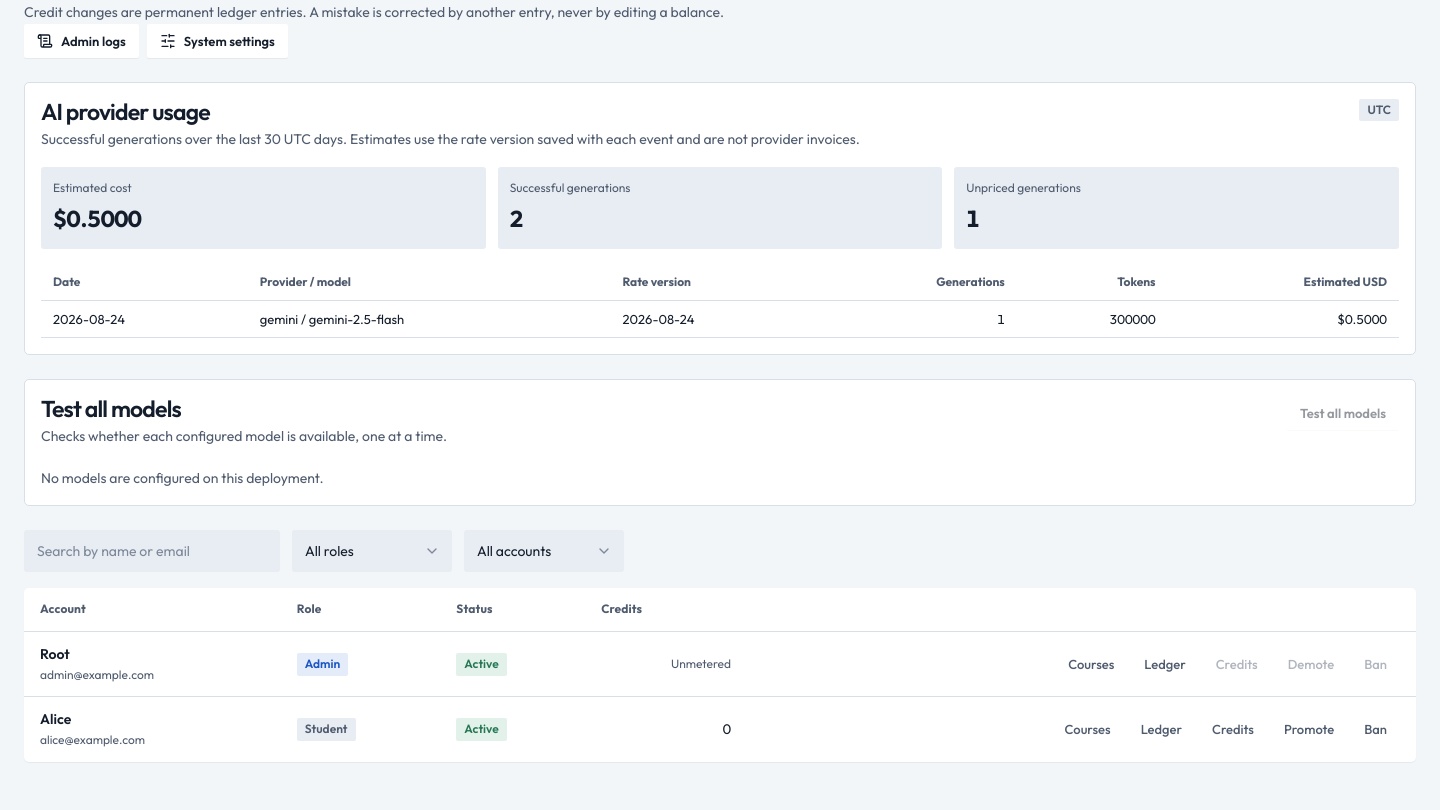
Test: AdminPage credit administration › opens a dialog naming the account and its current balance
(page scrolled)
Click the button "Credits" in the row of "alice@example.com": [1233, 730] box [1199,712,1267,746]
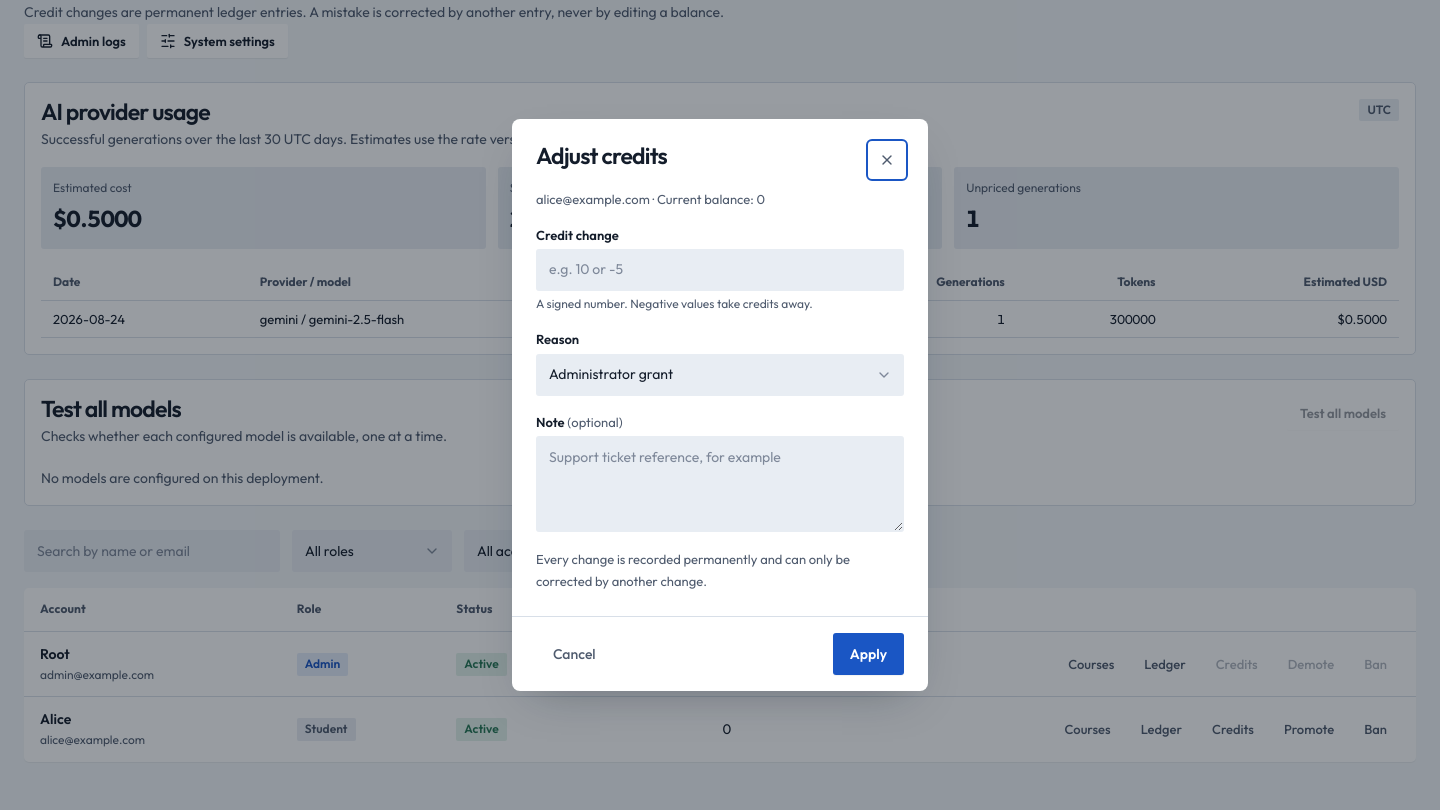
Expected: the text "alice@example.com" is shown, [536,191,650,207]
Expected: the text "Current balance: 0" is shown, [657,191,765,207]
